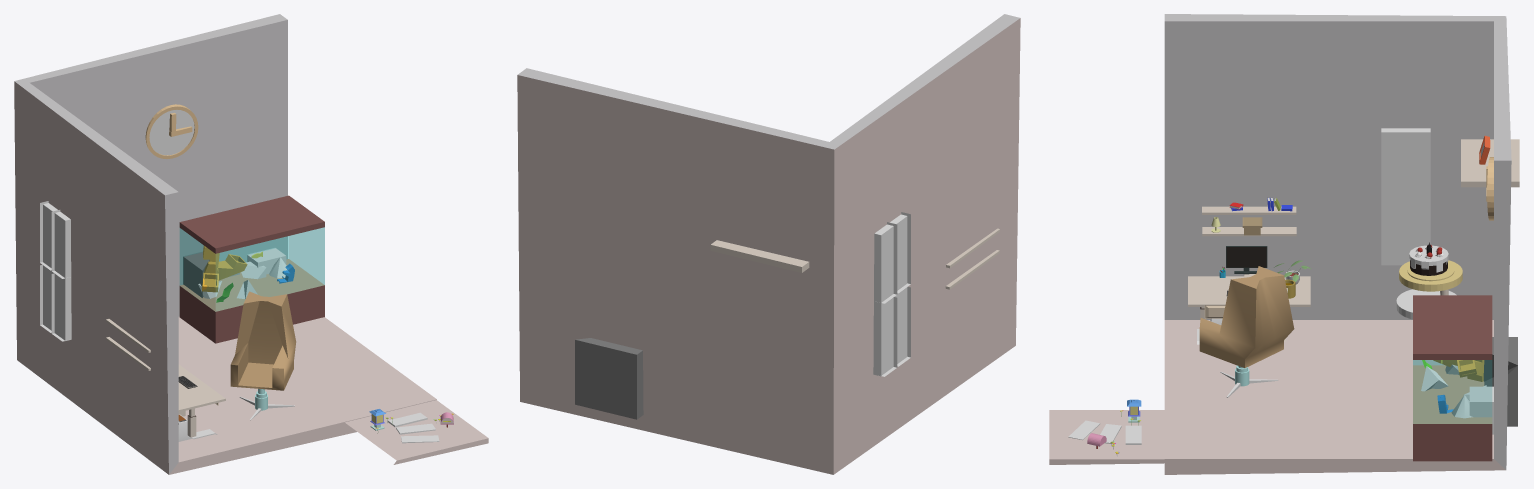
File: Practive.glb
3 views of the same model, side by side, from view 1: azimuth 30°, elevation 25°; view 2: azimuth 150°, elevation 25°; view 3: azimuth 270°, elevation 25° (orthographic). The views are drawn at different scales.
Visible parts, largest first — view 1: 큐브.009, AquariumBody, GrassOfAquarium, SeatBody, 큐브.021, ClockBody, SeaWeed, TableUp, 평면, rock.009, rock.007; view 2: 큐브.009, rock.009, 큐브.021, 평면, TableUp.007; view 3: 큐브.009, AquariumBody, 큐브.021, SeatBody, GrassOfAquarium, TableUp, TableUp.007, rock.009, SideTableUp, MonitorObject, rock.007, TableUp.004 (+4 smaller).
Boxes of the visible parts, left/top/right/bottom form: 큐브.009: left=14, top=14, right=488, bottom=474; AquariumBody: left=179, top=195, right=324, bottom=343; GrassOfAquarium: left=179, top=227, right=324, bottom=311; SeatBody: left=230, top=291, right=296, bottom=390; 큐브.021: left=43, top=203, right=71, bottom=340; ClockBody: left=145, top=104, right=198, bottom=158; SeaWeed: left=202, top=245, right=247, bottom=292; TableUp: left=178, top=364, right=225, bottom=412; 평면: left=40, top=201, right=70, bottom=341; rock.009: left=183, top=251, right=239, bottom=297; rock.007: left=247, top=248, right=286, bottom=274; 큐브.009: left=517, top=14, right=1020, bottom=474; rock.009: left=575, top=338, right=643, bottom=419; 큐브.021: left=873, top=214, right=907, bottom=376; 평면: left=881, top=212, right=910, bottom=376; TableUp.007: left=710, top=240, right=809, bottom=272; 큐브.009: left=1049, top=14, right=1511, bottom=474; AquariumBody: left=1413, top=295, right=1492, bottom=461; 큐브.021: left=1381, top=128, right=1430, bottom=265; SeatBody: left=1199, top=266, right=1294, bottom=368; GrassOfAquarium: left=1413, top=360, right=1491, bottom=423; TableUp: left=1188, top=276, right=1310, bottom=306; TableUp.007: left=1461, top=139, right=1519, bottom=187; rock.009: left=1483, top=337, right=1517, bottom=426; SideTableUp: left=1399, top=260, right=1462, bottom=291; MonitorObject: left=1226, top=246, right=1267, bottom=274; rock.007: left=1469, top=386, right=1493, bottom=434; TableUp.004: left=1202, top=227, right=1296, bottom=236.
Size of the model in its own units: 49.12 by 48.26 by 65.39.
